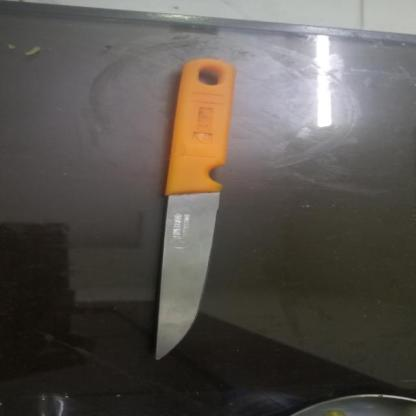Knife: (143, 53, 240, 362)
